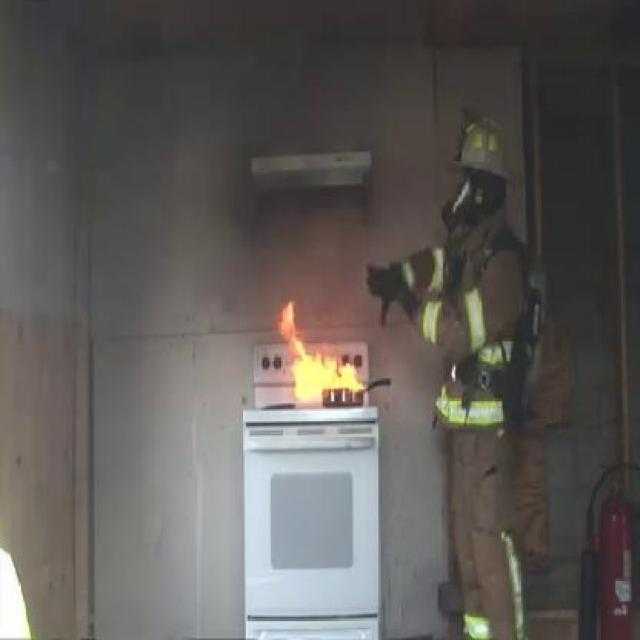fire: (283, 302, 365, 395)
